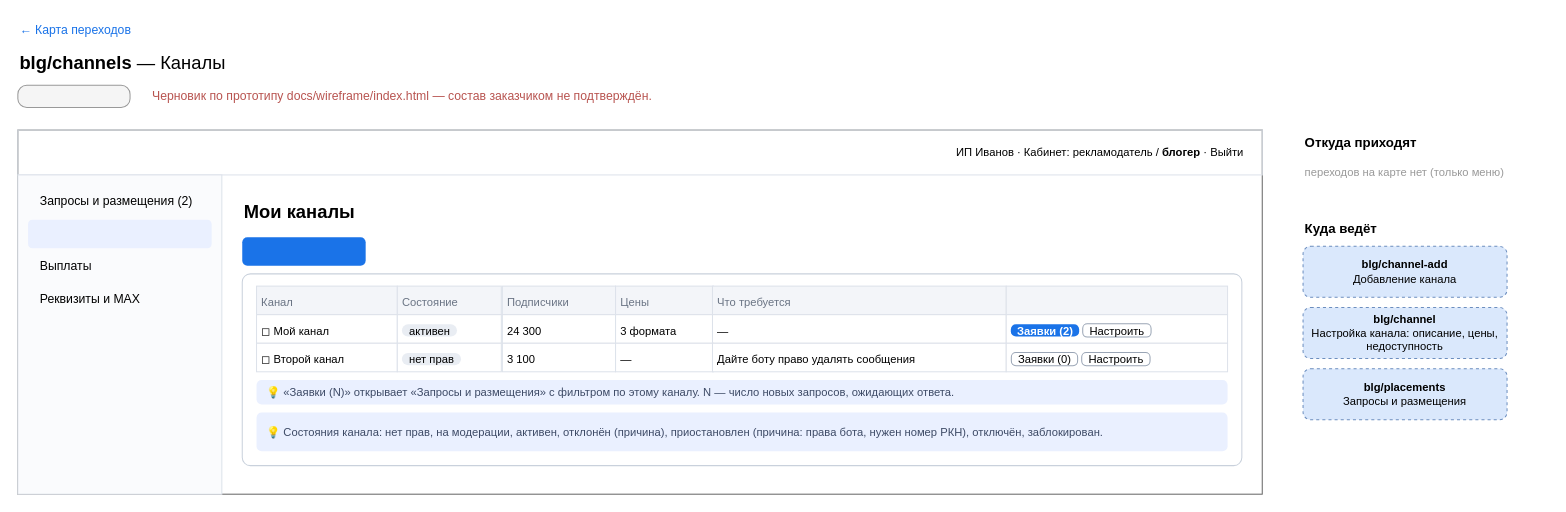
The diagram is 1566 pixels wide and 512 high, and some of its shapes have lost their labels. Here are the shapes that lost their labels. From the top down, the box of each, then its label:
(17, 84, 130, 108): не разобран
(17, 129, 1262, 175): Биржа MAX
(28, 219, 211, 248): Каналы
(242, 237, 365, 265): Добавить канал
